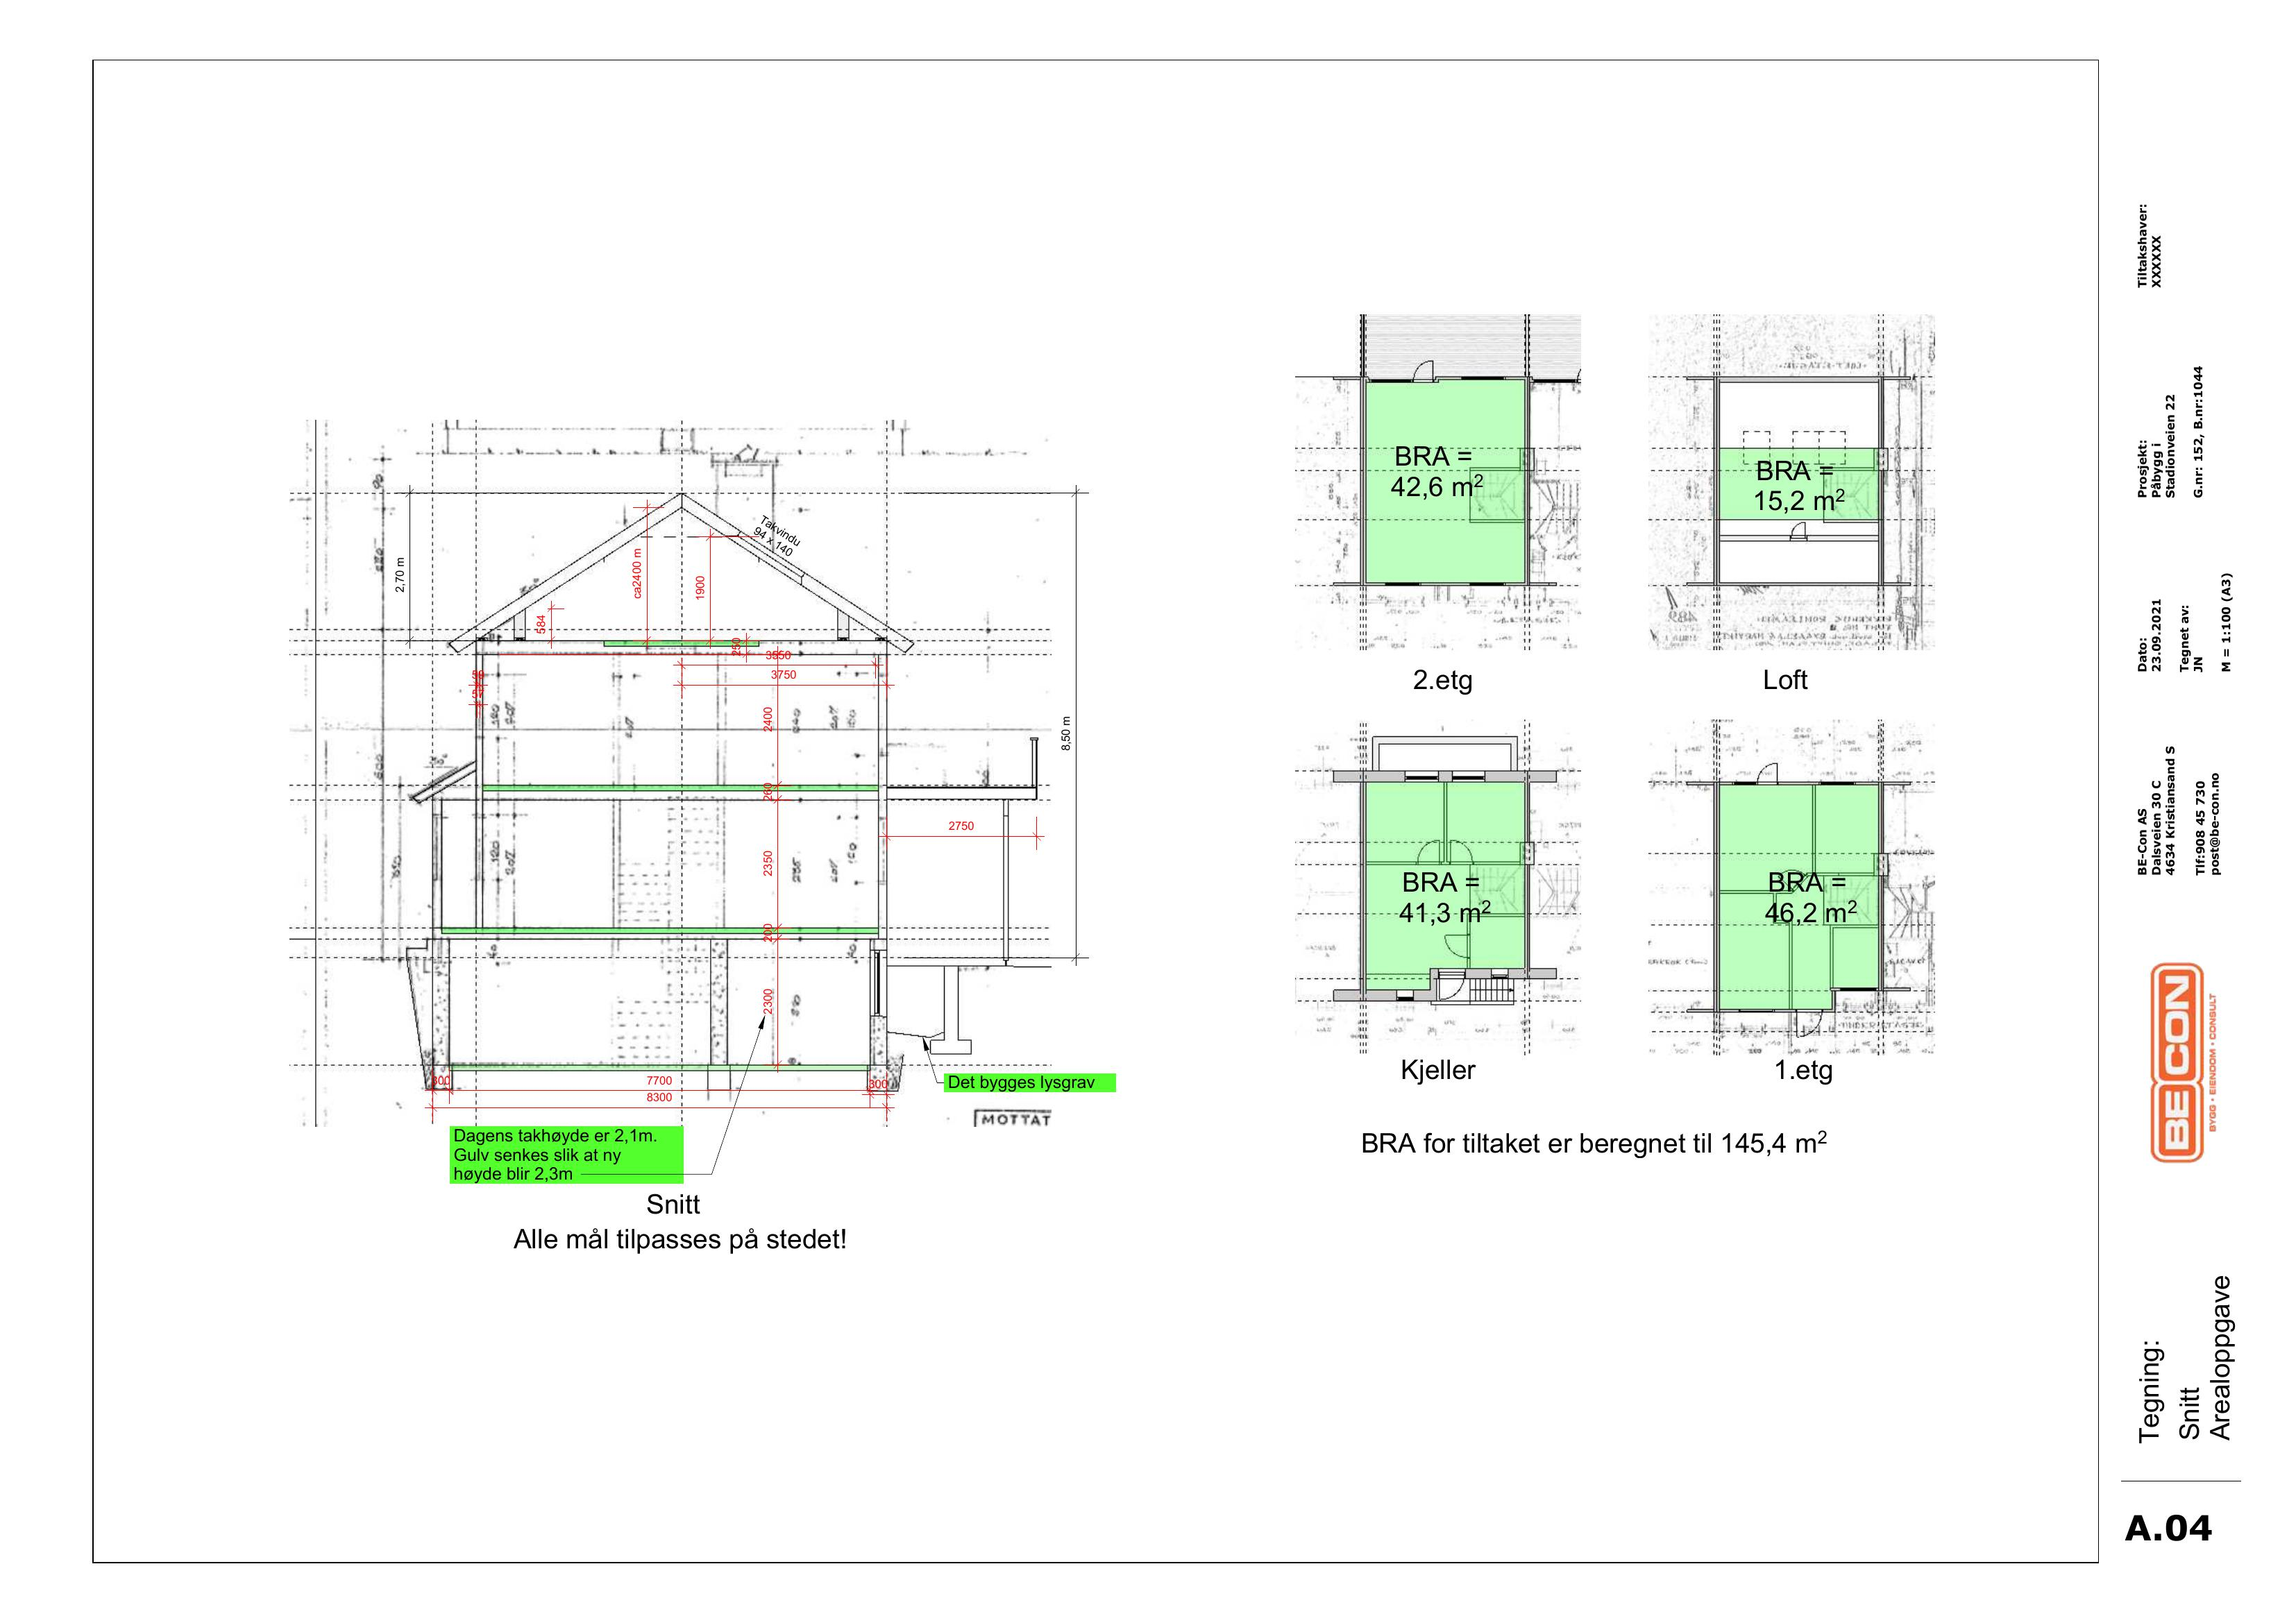snitt: (408, 474, 1043, 1076)
